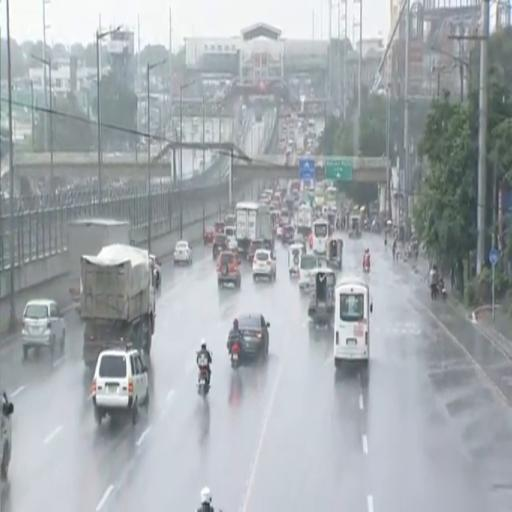bus: (334, 278, 372, 369)
car: (91, 345, 149, 425), (22, 299, 65, 358), (239, 314, 269, 360), (0, 392, 13, 482), (217, 251, 241, 289), (252, 249, 276, 280), (174, 240, 192, 264), (213, 234, 228, 260), (248, 240, 263, 264), (225, 226, 237, 251), (203, 228, 214, 245)
motorcycle: (198, 366, 209, 396), (230, 341, 240, 369), (154, 268, 161, 290), (438, 281, 446, 300), (363, 259, 370, 274), (363, 264, 369, 274)
truck: (80, 245, 155, 369), (67, 218, 130, 313), (235, 202, 273, 254), (296, 204, 312, 235)
